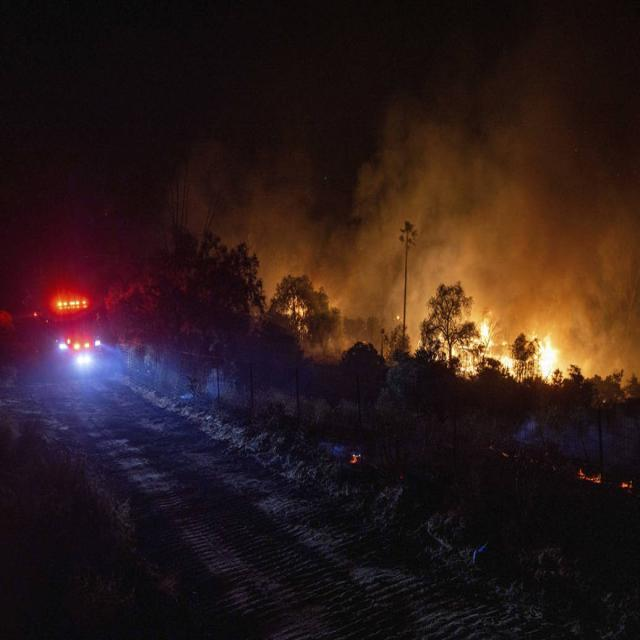Fire: (540, 338, 556, 377), (480, 321, 490, 342)
Smoke: (466, 208, 542, 296)
